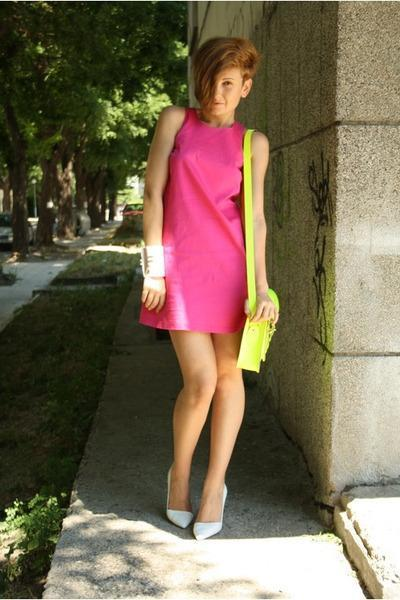bag: (236, 281, 275, 371)
dress: (140, 118, 247, 346)
shoe: (163, 509, 223, 540)
